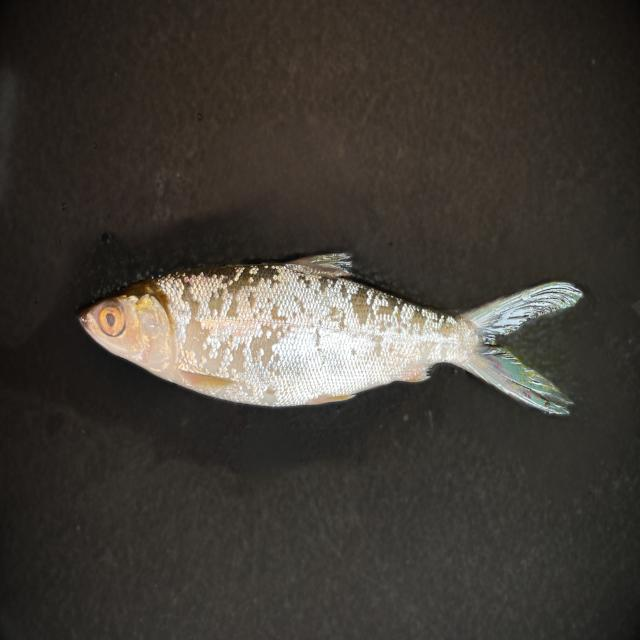580 g: (79, 253, 584, 415)
